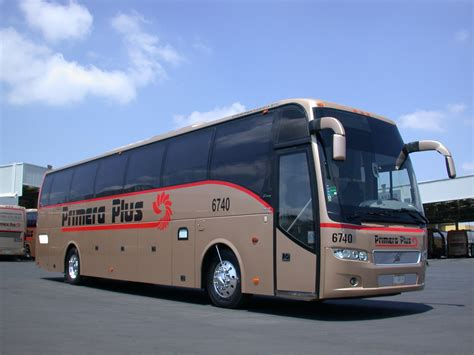bus: (35, 111, 431, 305)
